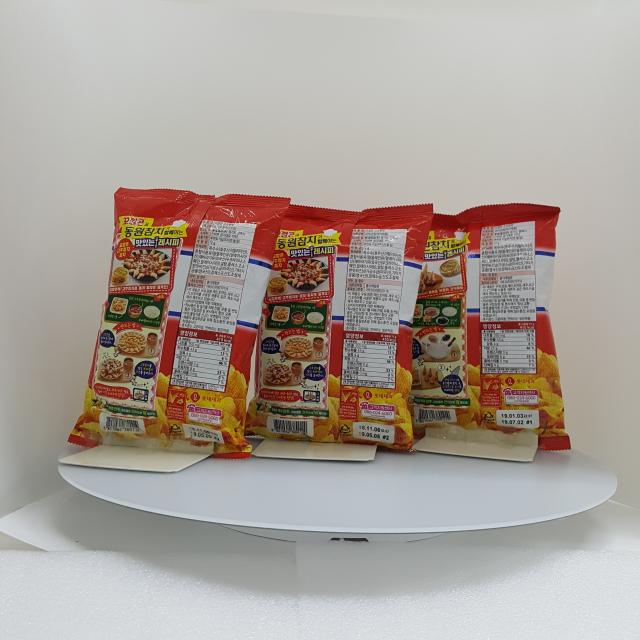-72G: (68, 188, 292, 460), (243, 204, 434, 452), (390, 204, 572, 452)
